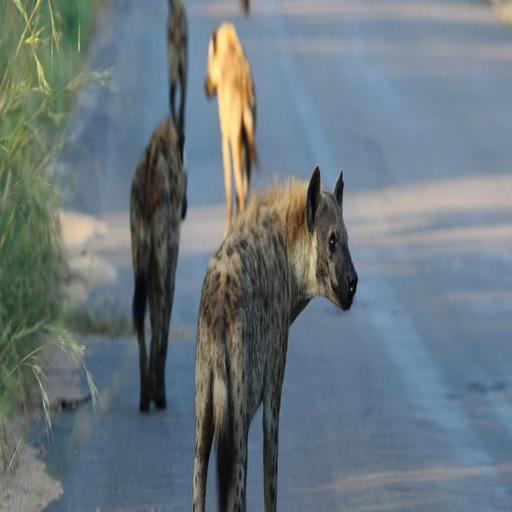Hyena: (187, 169, 360, 512), (125, 104, 187, 422), (200, 20, 267, 242), (158, 0, 198, 142)
